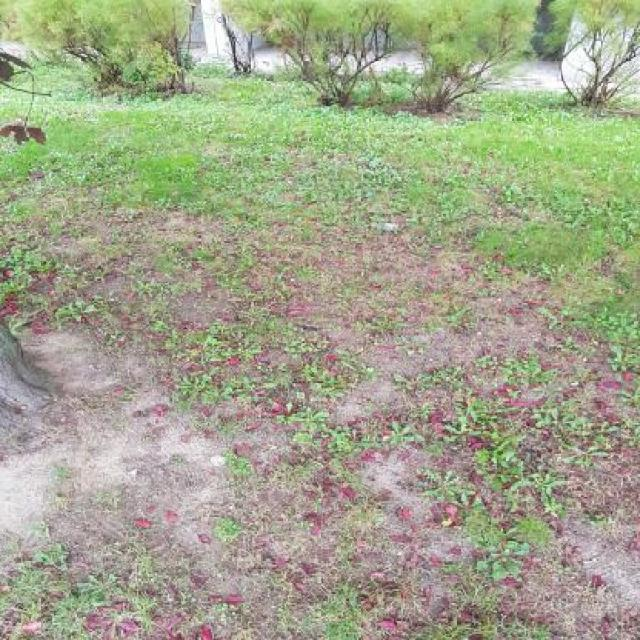Garbage: (295, 180, 308, 204)
